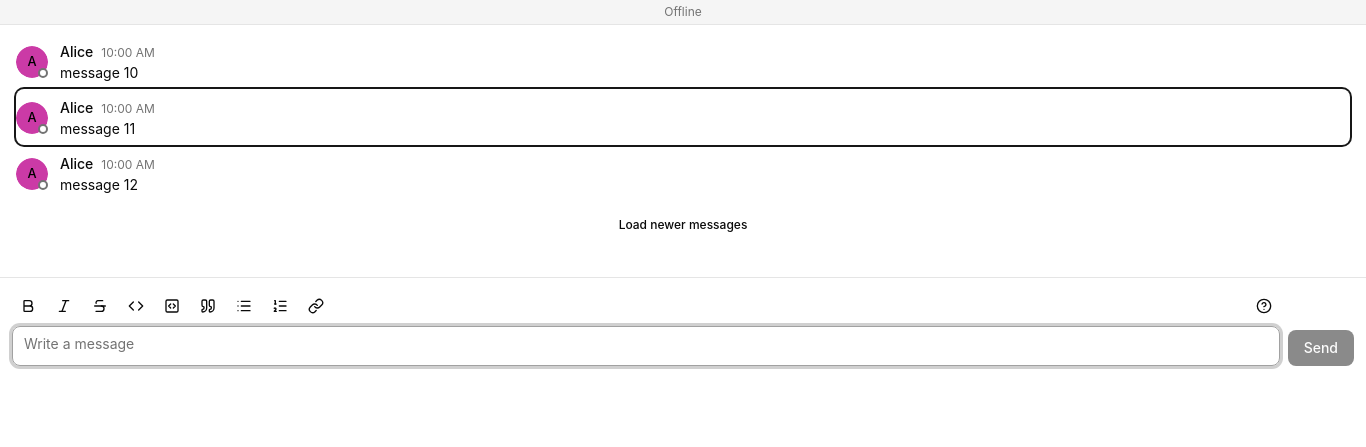
loads newer messages from the button, and reports a failure
The width and height of the screenshot is (1366, 447).
Expected: the text "message 12" is shown, [60,176,138,193]
Click the button "Load newer messages" at x=683, y=225, box [607,209,759,241]
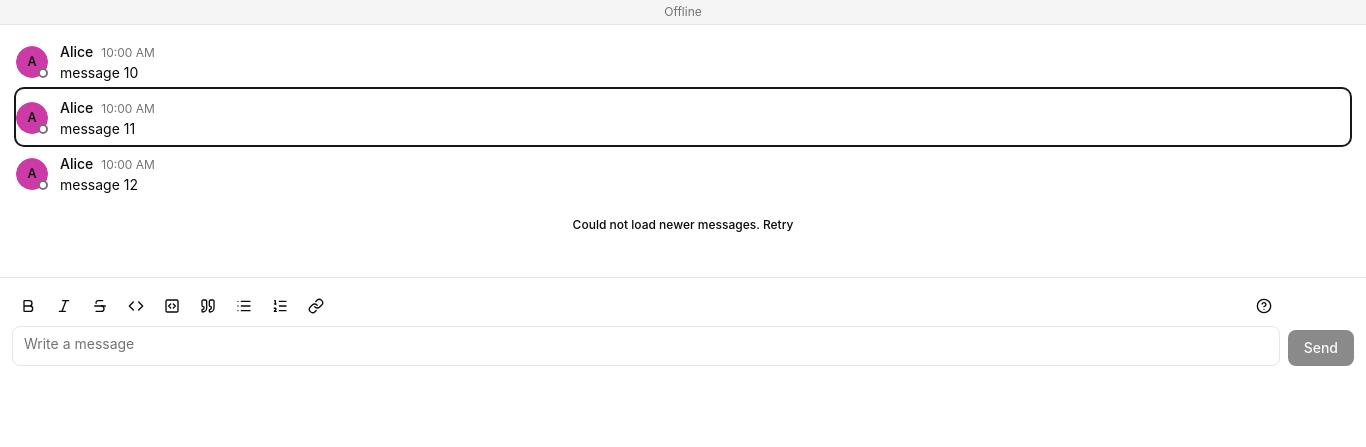
Expected: the button "Could not load newer messages. Retry" is shown
Click the button "Could not load newer messages. Retry" at x=683, y=225, box [561,209,805,241]
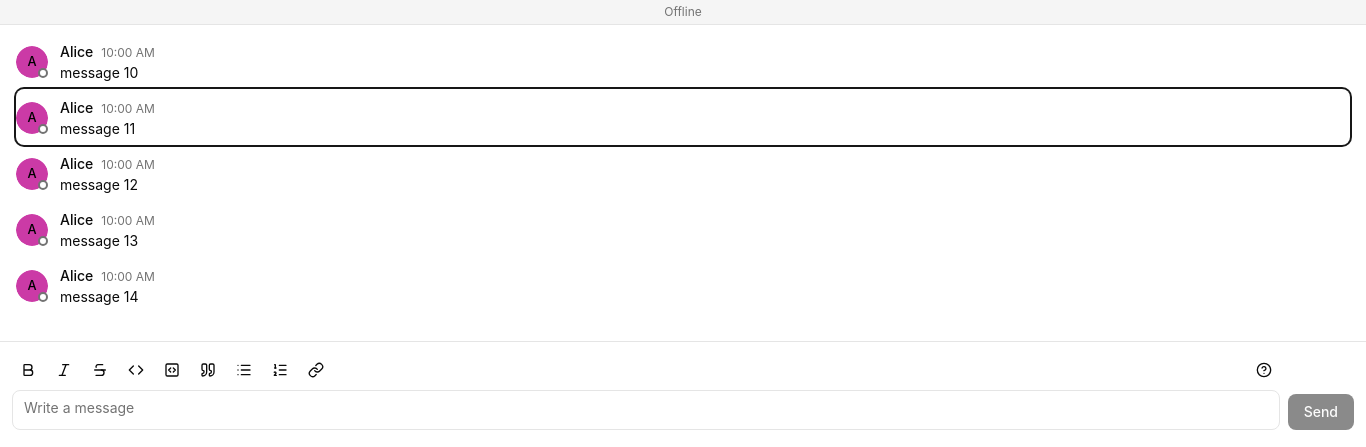
Expected: the text "message 14" is shown, [60,288,138,305]
